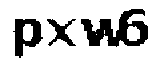6: (120, 6, 150, 50)
p: (14, 15, 45, 59)
w: (79, 16, 123, 49)
x: (46, 14, 75, 49)
